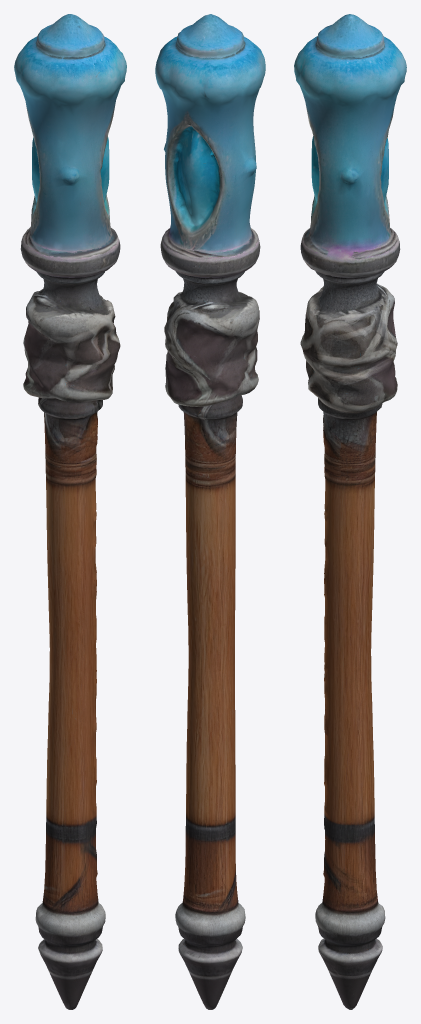
The model's file is staff1.glb.
The picture shows the model from 3 angles, left to right: view 1: azimuth 90°, elevation 25°; view 2: azimuth 150°, elevation 25°; view 3: azimuth 270°, elevation 25°; orthographic projection.
Bounding box in the file's own units: 0.2053 × 2 × 0.2056.
1 material, 1 textured.
